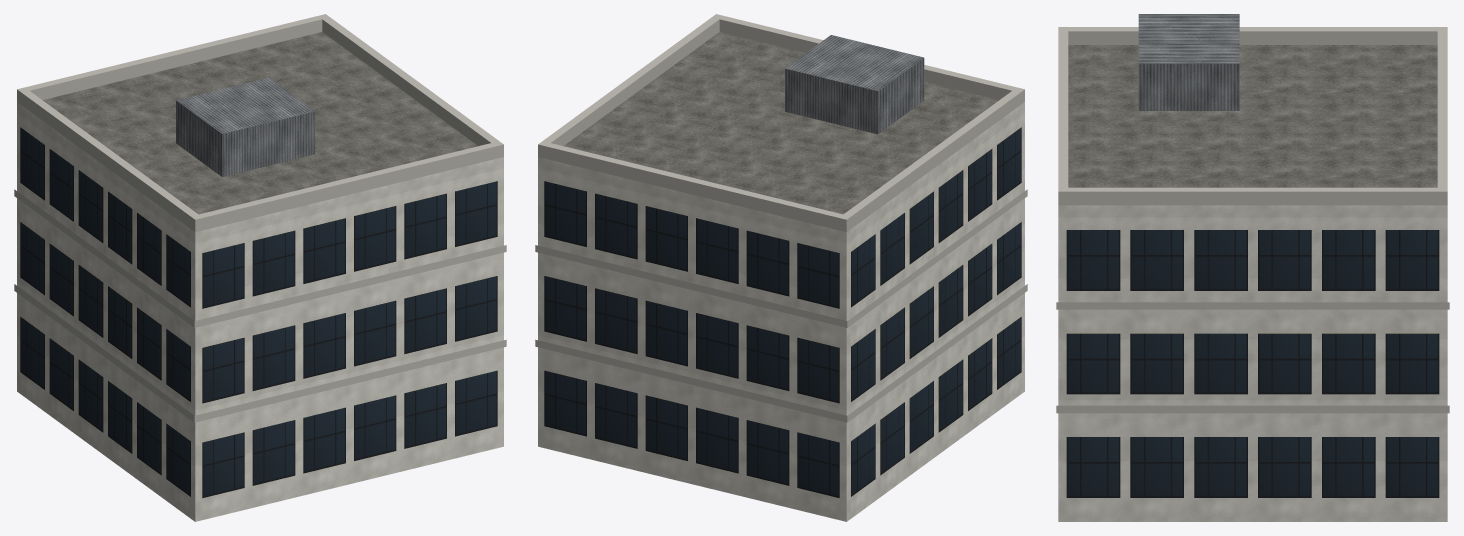
The model's file is let_budova_4.glb.
3 views of the same model, side by side, from view 1: azimuth 30°, elevation 25°; view 2: azimuth 150°, elevation 25°; view 3: azimuth 270°, elevation 25° (orthographic). The views are drawn at different scales.
Visible parts, largest first — view 1: dum, noc; view 2: dum, noc; view 3: dum.
Boxes of the visible parts, box(x1,y1,x2,y2) form: dum: box(14, 14, 506, 521); noc: box(21, 127, 494, 497); dum: box(535, 14, 1027, 521); noc: box(546, 127, 1020, 475); dum: box(1056, 14, 1449, 521).
Size of the model in its own units: 11.72 by 12.4 by 11.72.
Materials: 2 (2 with a texture image).
